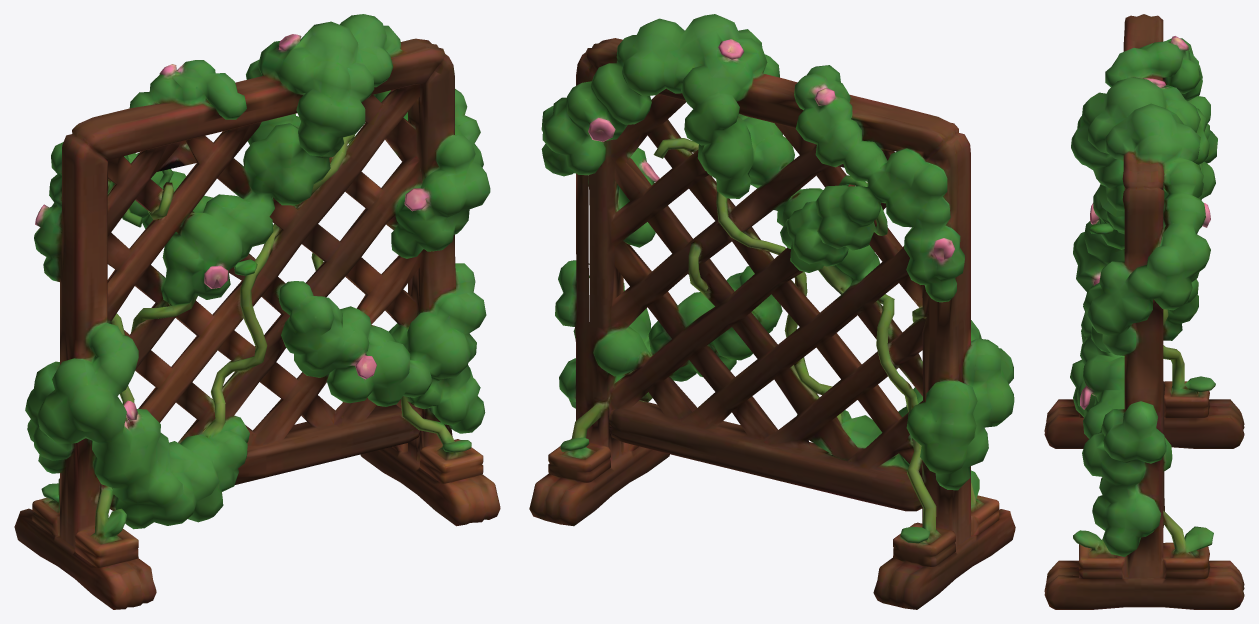
Rendered from trellis.glb.
3 renders of one model, left to right at view 1: azimuth 30°, elevation 25°; view 2: azimuth 150°, elevation 25°; view 3: azimuth 270°, elevation 25°, orthographic. The views are drawn at different scales.
Parts seen in each view (by area): view 1: tripo_node_54fc006a-d40d-4ea2-9a18-c471cd828e4d; view 2: tripo_node_54fc006a-d40d-4ea2-9a18-c471cd828e4d; view 3: tripo_node_54fc006a-d40d-4ea2-9a18-c471cd828e4d.
Boxes of the visible parts, x1,y1,x2,y2 form: tripo_node_54fc006a-d40d-4ea2-9a18-c471cd828e4d: (14, 14, 500, 609); tripo_node_54fc006a-d40d-4ea2-9a18-c471cd828e4d: (529, 14, 1015, 609); tripo_node_54fc006a-d40d-4ea2-9a18-c471cd828e4d: (1044, 14, 1244, 609).
Bounding box in the file's own units: 0.9355 × 0.9776 × 0.3769.
1 material, 1 textured.
